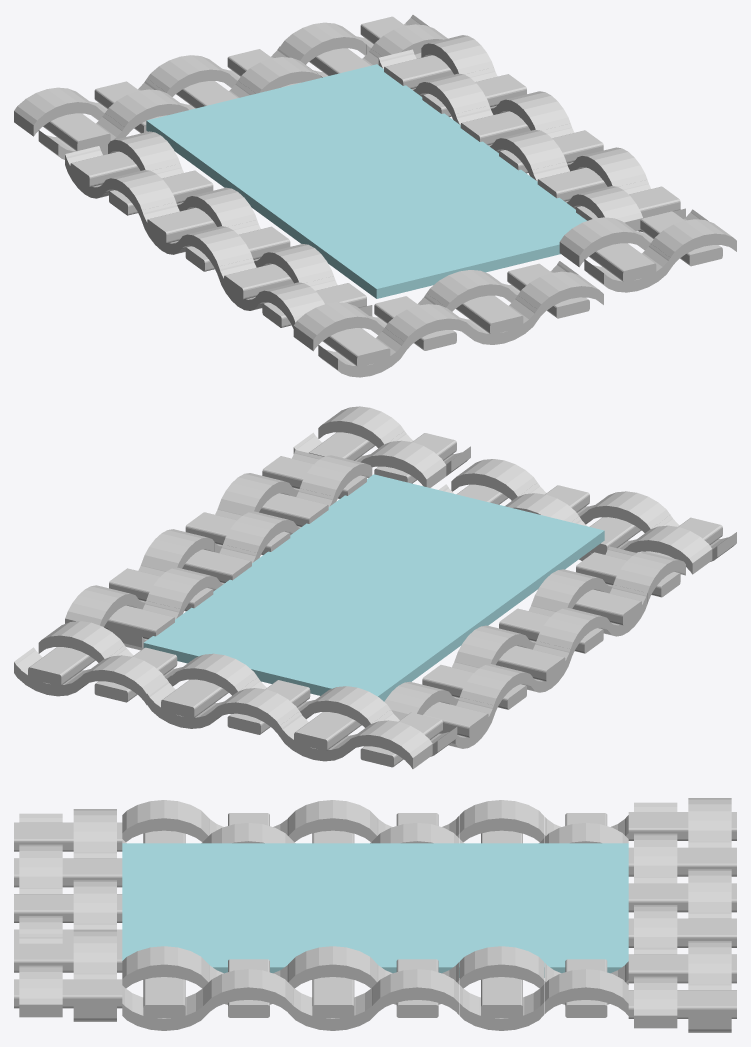
The model's file is tinker.obj.
3 views of the same model, one above another, from view 1: azimuth 30°, elevation 25°; view 2: azimuth 150°, elevation 25°; view 3: azimuth 270°, elevation 25° (orthographic). The views are drawn at different scales.
Parts seen in each view (by area): view 1: group_0_16448250, group_0_11593967; view 2: group_0_16448250, group_0_11593967; view 3: group_0_16448250, group_0_11593967.
Boxes of the visible parts, bbox=[...] form: group_0_16448250: bbox=[14, 15, 736, 377]; group_0_11593967: bbox=[146, 64, 586, 298]; group_0_16448250: bbox=[14, 406, 736, 768]; group_0_11593967: bbox=[143, 474, 604, 701]; group_0_16448250: bbox=[14, 798, 736, 1032]; group_0_11593967: bbox=[122, 843, 628, 977].
Size of the model in its own units: 42 by 6 by 59.99.
